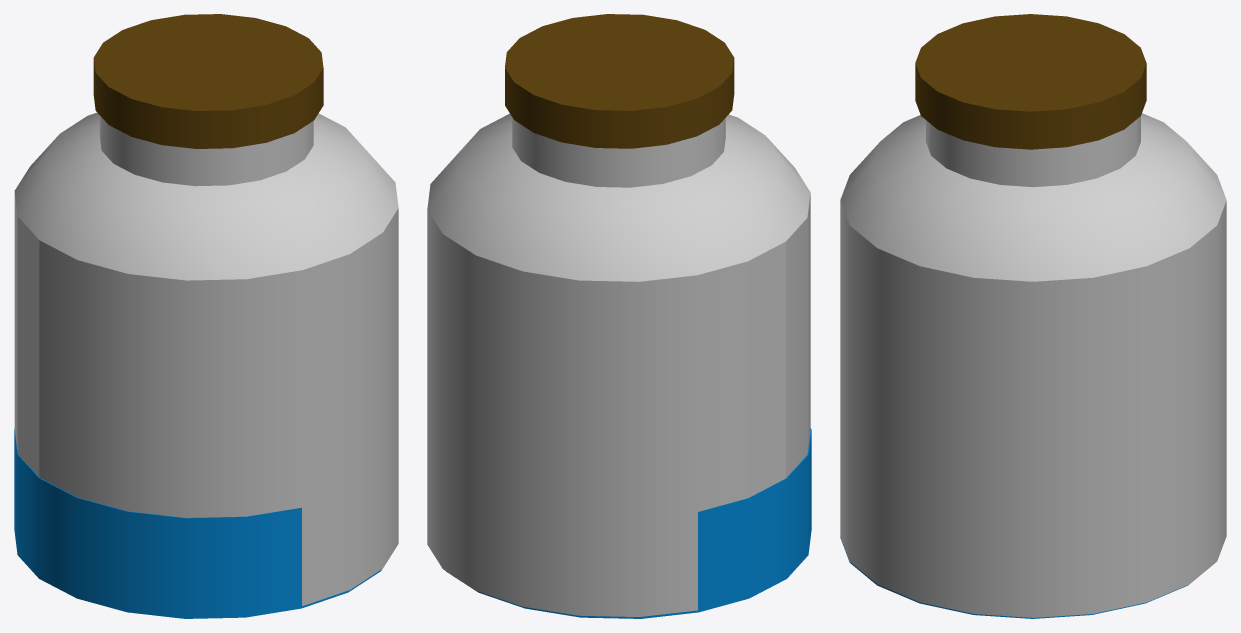
File: potion 5.fbx
3 views of the same model, side by side, from view 1: azimuth 30°, elevation 25°; view 2: azimuth 150°, elevation 25°; view 3: azimuth 270°, elevation 25° (orthographic).
Parts seen in each view (by area): view 1: pasted__pCylinder235, pasted__pCylinder238, pasted__pasted__pCylinder231; view 2: pasted__pCylinder235, pasted__pasted__pCylinder231, pasted__pCylinder238; view 3: pasted__pCylinder235, pasted__pasted__pCylinder231, pasted__pCylinder238.
Part boxes in pixels (box(x1,y1,x2,y2)): pasted__pCylinder235: box(14, 112, 398, 605); pasted__pCylinder238: box(14, 429, 381, 618); pasted__pasted__pCylinder231: box(93, 14, 323, 148); pasted__pCylinder235: box(427, 113, 810, 616); pasted__pasted__pCylinder231: box(505, 14, 734, 148); pasted__pCylinder238: box(446, 428, 811, 618); pasted__pCylinder235: box(840, 113, 1226, 617); pasted__pasted__pCylinder231: box(915, 14, 1146, 149); pasted__pCylinder238: box(840, 537, 1188, 618).
Size of the model in its own units: 0.0714 by 0.0968 by 0.0712.
Materials: 2 (2 with a texture image).
